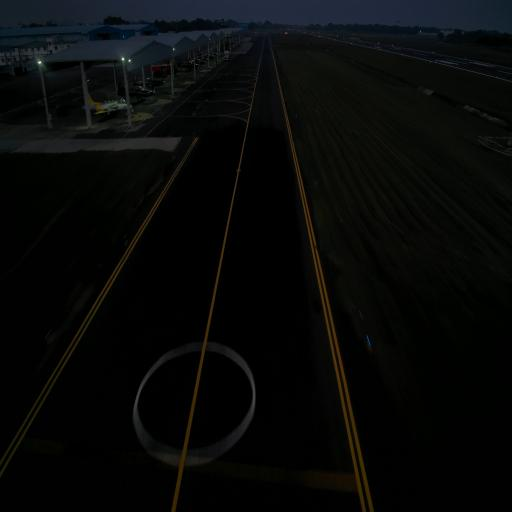on: (364, 330, 372, 352)
